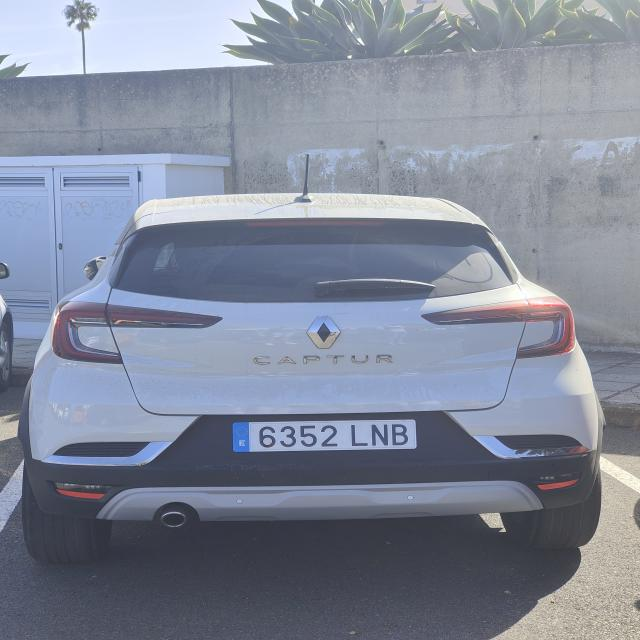License-Plate: (231, 419, 418, 452)
